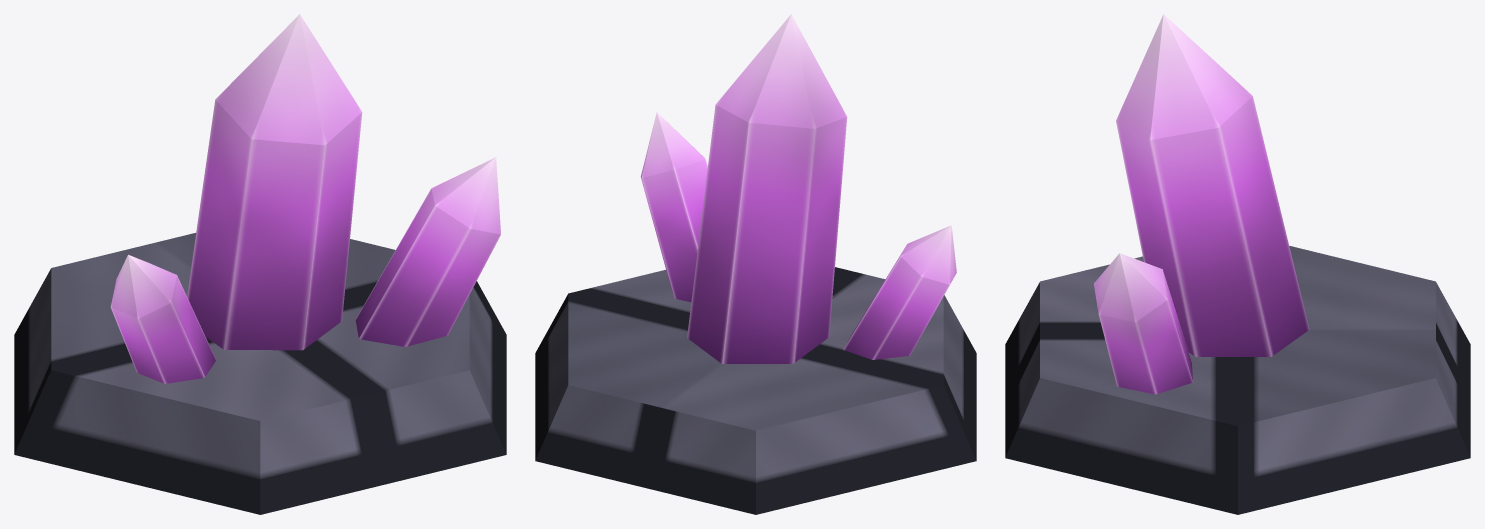
Rendered from trail_stud_orchid.glb.
3 views of the same model, side by side, from view 1: azimuth 30°, elevation 25°; view 2: azimuth 150°, elevation 25°; view 3: azimuth 270°, elevation 25° (orthographic). The views are drawn at different scales.
Visible parts, largest first — view 1: trail_stud_orchid; view 2: trail_stud_orchid; view 3: trail_stud_orchid.
Part boxes in pixels (left/top/right/bottom): trail_stud_orchid: left=14, top=14, right=506, bottom=514; trail_stud_orchid: left=535, top=14, right=976, bottom=514; trail_stud_orchid: left=1005, top=14, right=1470, bottom=514.
Size of the model in its own units: 0.34 by 0.273 by 0.2944.
2 materials, 2 textured.
